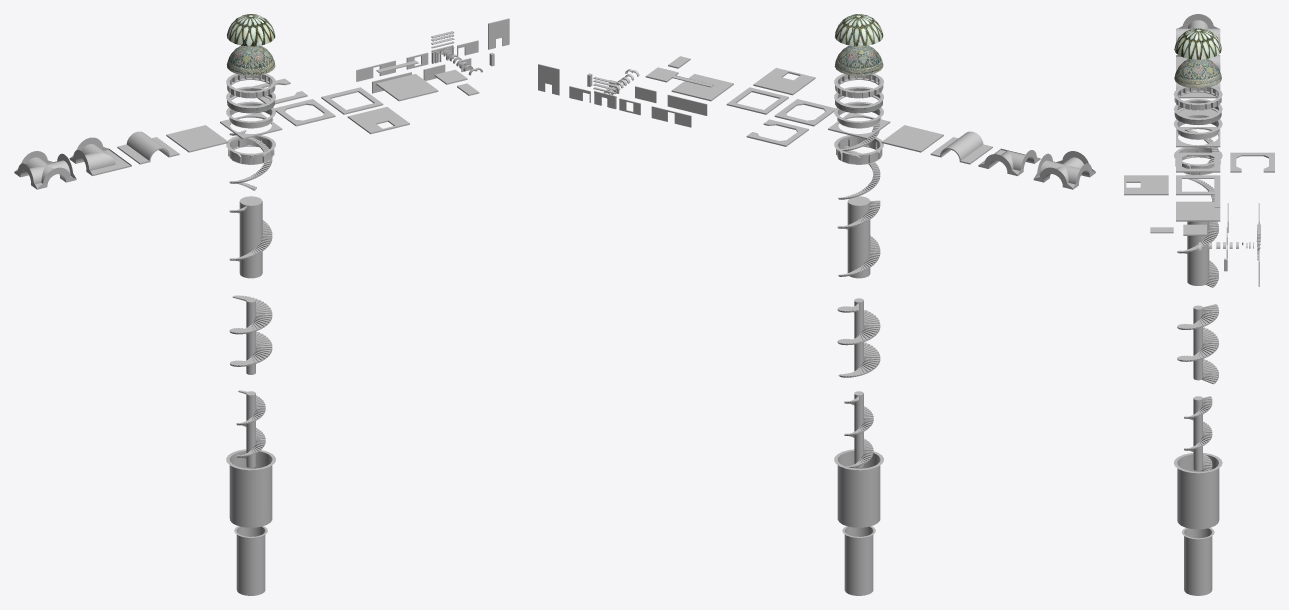
Rendered from RoomModular.FBX.
The picture shows the model from 3 angles, left to right: view 1: azimuth 30°, elevation 25°; view 2: azimuth 150°, elevation 25°; view 3: azimuth 270°, elevation 25°; orthographic projection. The views are drawn at different scales.
Parts seen in each view (by area): view 1: RoomWall0009, SpiralStair002, RoomWall010, SpiralStair003, RoomRoof009, RoomRoof008, RoomRoof013, SpiralStair004, RoomRoof012, RoomRoof006, RoomRoof, RoomWall011 (+2 smaller); view 2: RoomWall0009, SpiralStair002, RoomWall010, SpiralStair003, RoomRoof009, RoomRoof013, SpiralStair004, RoomRoof012, RoomRoof006, RoomWall011, RoomRoof003, RoomRoof (+2 smaller); view 3: RoomWall0009, RoomWall010, SpiralStair003, SpiralStair002, SpiralStair004, RoomRoof013, RoomRoof012, RoomRoof, RoomRoof003, RoomWall014, RoomRoof004, RoomWall013 (+8 smaller).
Part boxes in pixels (<box>): RoomWall0009: <box>226,449,275,527</box>; SpiralStair002: <box>229,196,272,278</box>; RoomWall010: <box>234,526,267,595</box>; SpiralStair003: <box>229,295,272,374</box>; RoomRoof009: <box>14,151,76,189</box>; RoomRoof008: <box>69,137,131,175</box>; RoomRoof013: <box>227,14,275,46</box>; SpiralStair004: <box>236,390,265,467</box>; RoomRoof012: <box>226,45,275,75</box>; RoomRoof006: <box>166,125,228,152</box>; RoomRoof: <box>376,74,438,101</box>; RoomWall011: <box>226,135,275,164</box>; RoomWall0009: <box>834,449,883,527</box>; SpiralStair002: <box>837,196,880,278</box>; RoomWall010: <box>842,526,875,595</box>; SpiralStair003: <box>837,298,880,377</box>; RoomRoof009: <box>1033,151,1095,189</box>; RoomRoof013: <box>835,14,883,46</box>; SpiralStair004: <box>844,391,873,467</box>; RoomRoof012: <box>834,45,883,75</box>; RoomRoof006: <box>881,125,943,152</box>; RoomWall011: <box>834,135,883,164</box>; RoomRoof003: <box>753,68,815,95</box>; RoomRoof: <box>671,74,733,101</box>; RoomWall0009: <box>1174,453,1222,529</box>; RoomWall010: <box>1181,528,1214,595</box>; SpiralStair003: <box>1177,304,1218,384</box>; SpiralStair002: <box>1177,221,1218,287</box>; SpiralStair004: <box>1184,396,1212,471</box>; RoomRoof013: <box>1174,28,1221,59</box>; RoomRoof012: <box>1174,59,1221,88</box>; RoomRoof: <box>1176,201,1220,221</box>; RoomRoof003: <box>1124,175,1168,195</box>; RoomWall014: <box>1173,86,1222,110</box>; RoomRoof004: <box>1176,152,1220,172</box>; RoomWall013: <box>1173,99,1222,125</box>.
Bounding box in the file's own units: 5118 × 5452 × 1331.
